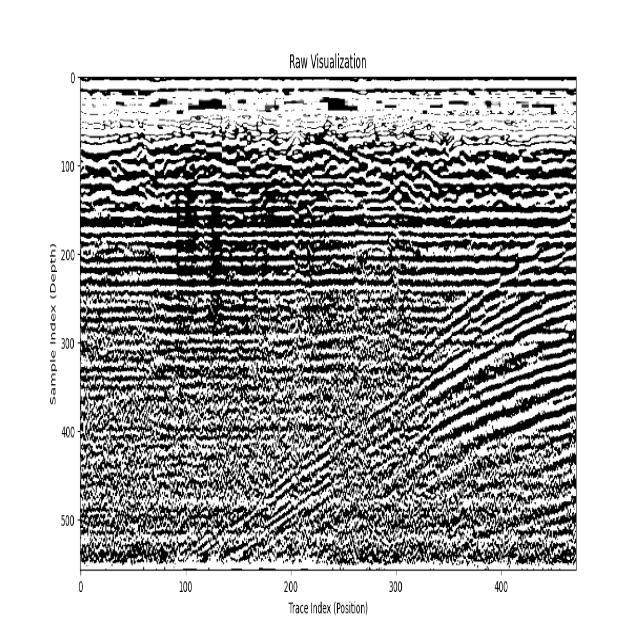anomaly: (175, 193, 568, 566)
